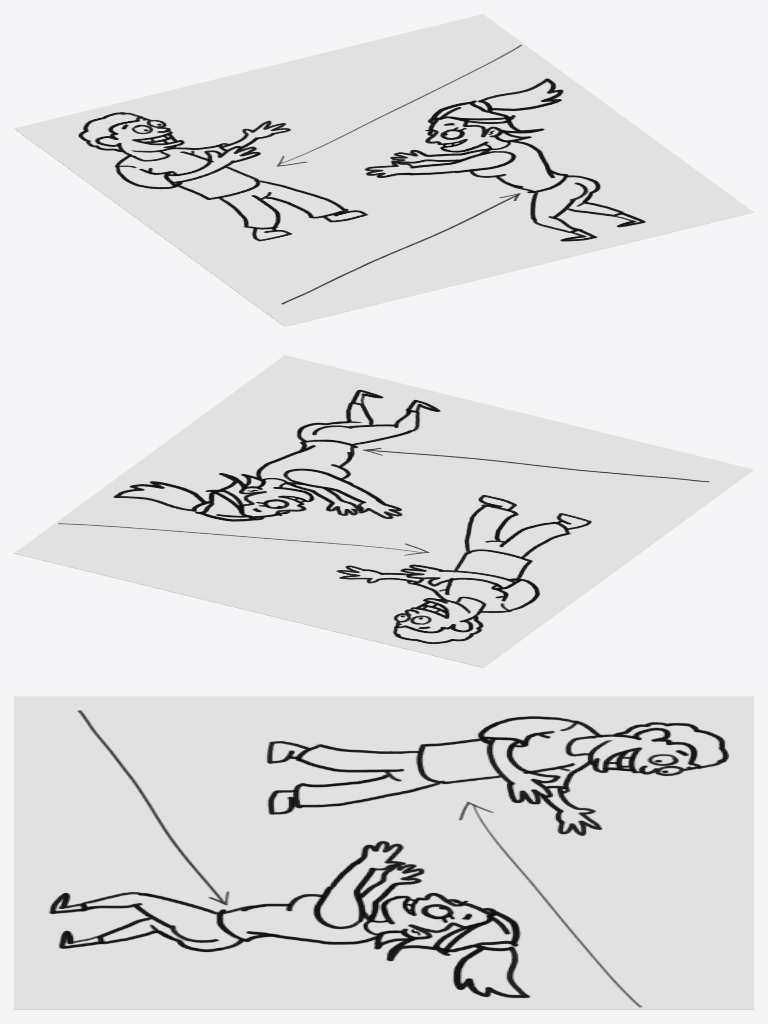
File: Level 4.fbx
3 renders of one model, top to bottom at view 1: azimuth 30°, elevation 25°; view 2: azimuth 150°, elevation 25°; view 3: azimuth 270°, elevation 25°, orthographic. The views are drawn at different scales.
Parts seen in each view (by area): view 1: mesh, main_mesh_1, main_mesh_2; view 2: mesh, main_mesh_1, main_mesh_2; view 3: mesh, main_mesh_1, main_mesh_2.
Boxes of the visible parts, x1,y1,x2,y2 form: mesh: (14,14,753,326); main_mesh_1: (270,40,527,169); main_mesh_2: (258,195,509,313); mesh: (14,355,753,667); main_mesh_1: (50,520,434,556); main_mesh_2: (376,450,735,489); mesh: (14,696,753,1009); main_mesh_1: (458,800,655,1009); main_mesh_2: (63,696,235,894).
Size of the model in its own units: 2400 by 1 by 2400.
